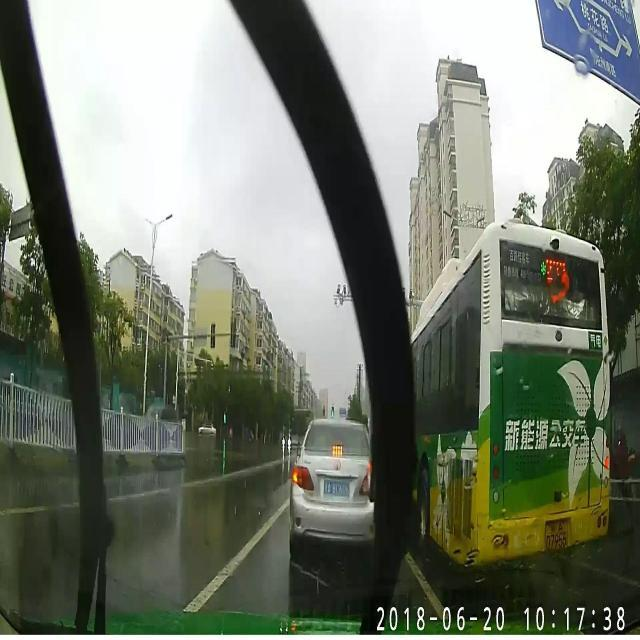car: (289, 420, 373, 556)
